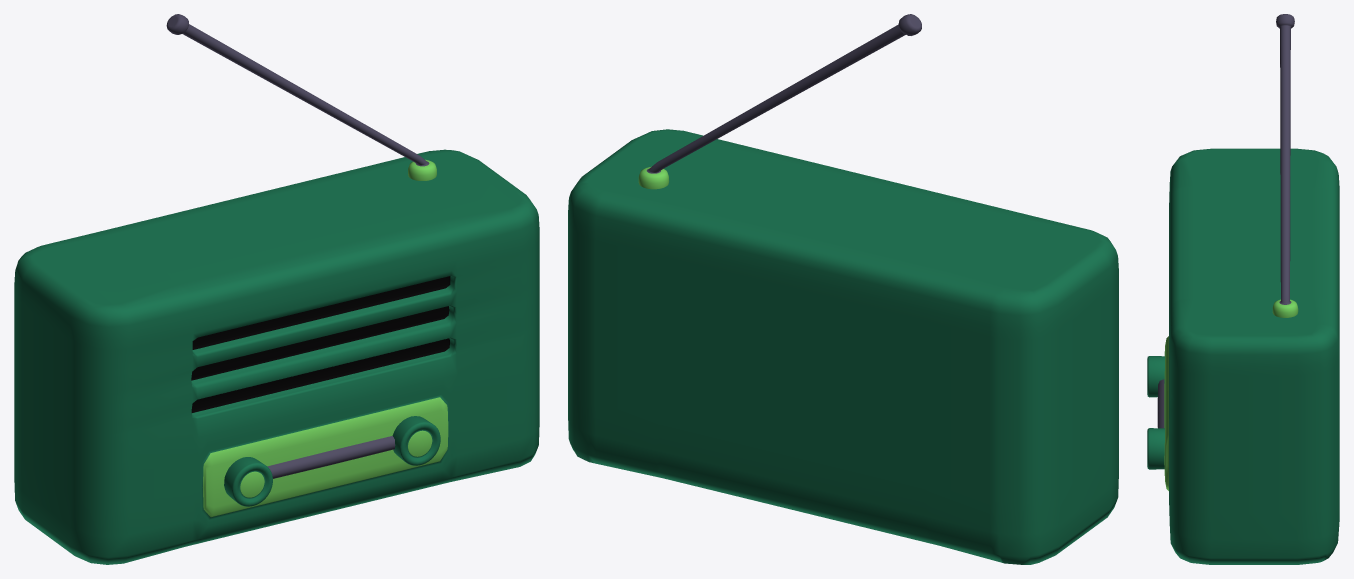
File: Radio_CC.glb
3 renders of one model, left to right at view 1: azimuth 30°, elevation 25°; view 2: azimuth 150°, elevation 25°; view 3: azimuth 270°, elevation 25°, orthographic. The views are drawn at different scales.
Parts seen in each view (by area): view 1: Radio_CC; view 2: Radio_CC; view 3: Radio_CC.
Boxes of the visible parts, x1,y1,x2,y2 form: Radio_CC: (14, 14, 539, 564); Radio_CC: (568, 14, 1118, 564); Radio_CC: (1147, 14, 1339, 564).
Bounding box in the file's own units: 0.2877 × 0.2838 × 0.1176.
Materials: 1 (1 with a texture image).
